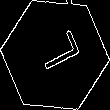L_SW: (28, 30, 82, 80)
